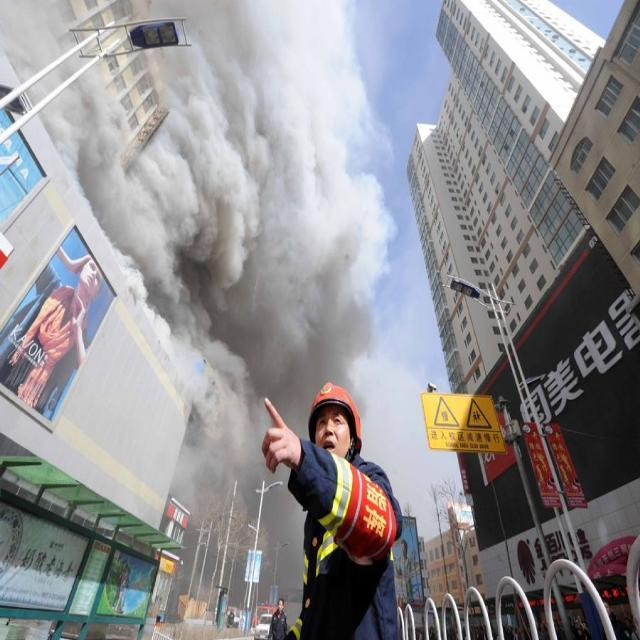Smoke: (3, 0, 390, 383)
